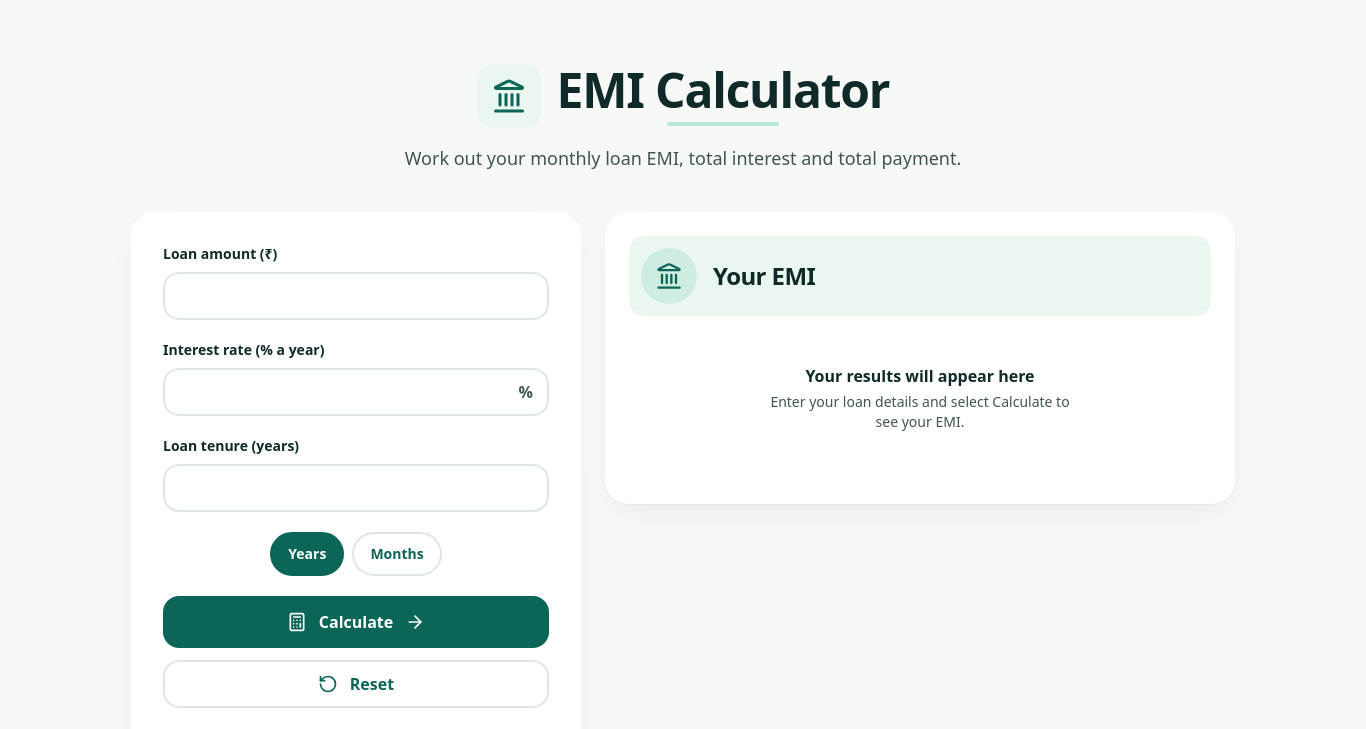
Test case: EMI Calculator › shows errors and focuses the first invalid field
What coordinates should you click on to do the following:
click the button "Calculate"
I would click on:
 (356, 622)
Its box is [163,596,549,648].
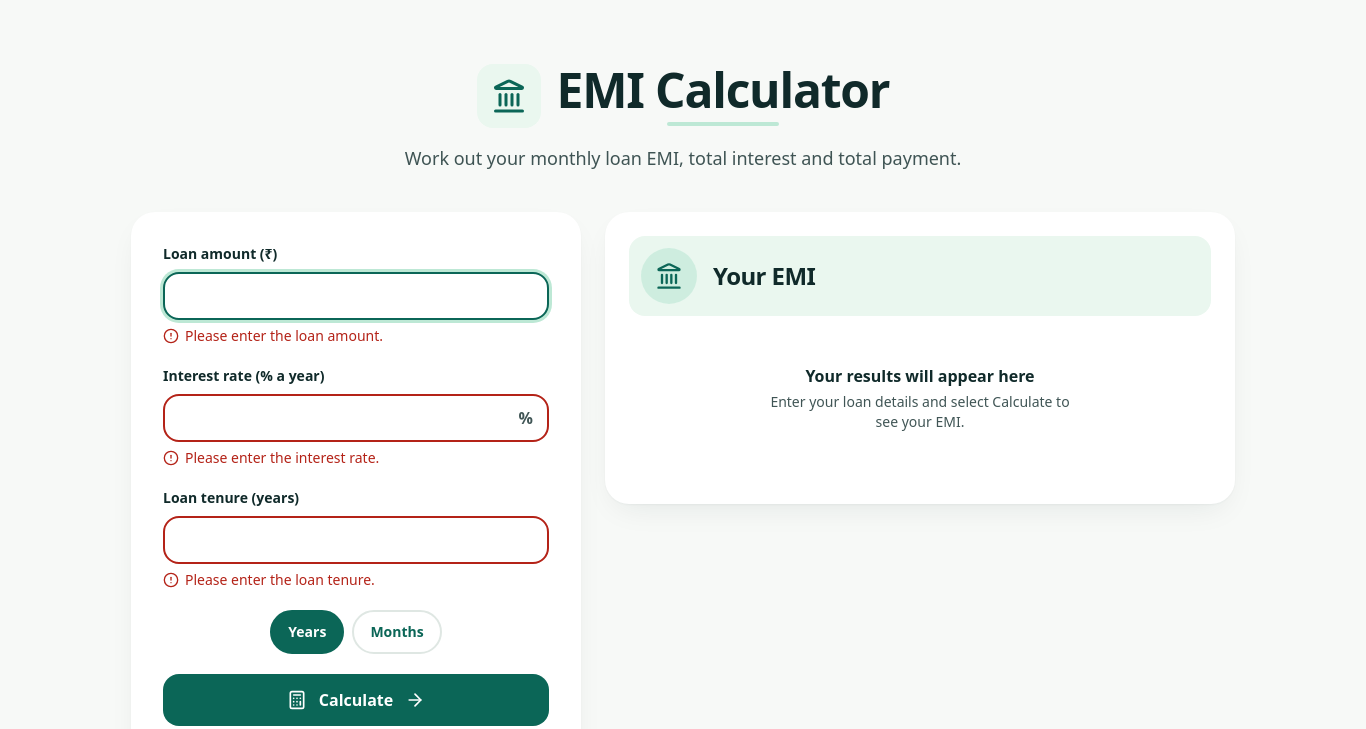
Now the text "Please enter the loan amount." is shown, box [163,326,383,345]
Now the text "Please enter the interest rate." is shown, box [163,448,379,467]
Now the text "Please enter the loan tenure." is shown, box [163,570,375,589]
